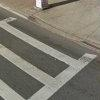Crosswalk: (9, 18, 79, 100)
